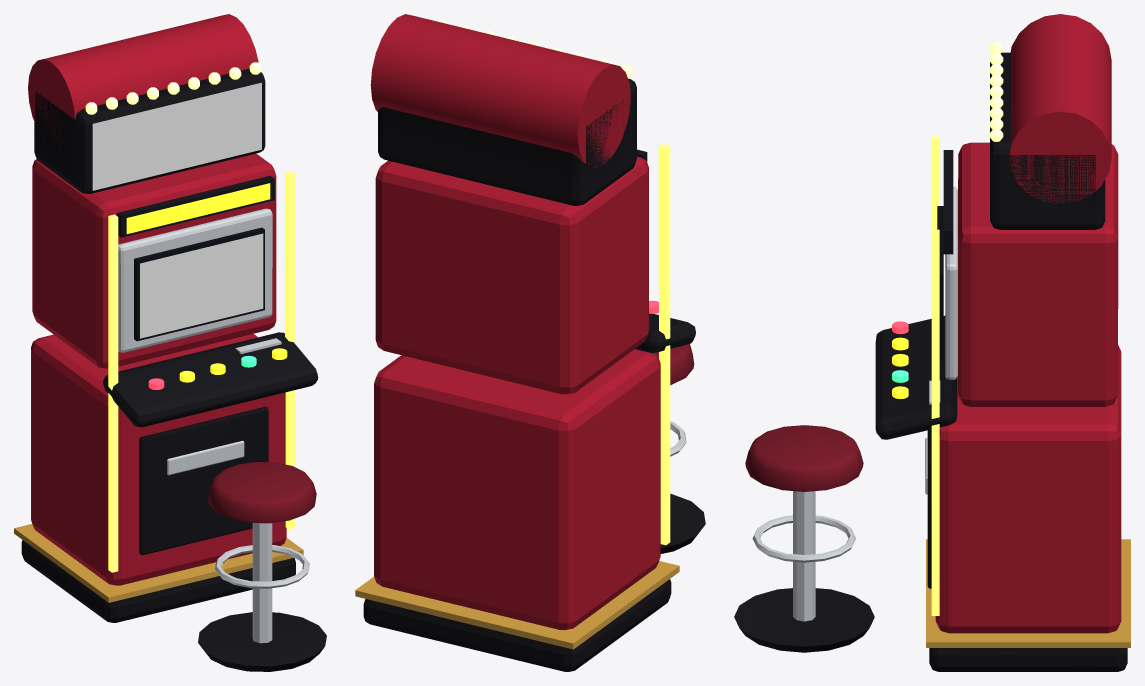
File: slot-cabinet.glb
3 views of the same model, side by side, from view 1: azimuth 30°, elevation 25°; view 2: azimuth 150°, elevation 25°; view 3: azimuth 270°, elevation 25° (orthographic). The views are drawn at different scales.
Visible parts, largest first — view 1: slot-cabinet_lod0; view 2: slot-cabinet_lod0; view 3: slot-cabinet_lod0.
Boxes of the visible parts, box(x1,y1,x2,y2) form: slot-cabinet_lod0: box(14, 14, 326, 671); slot-cabinet_lod0: box(355, 14, 705, 671); slot-cabinet_lod0: box(734, 14, 1130, 671).
Size of what is drawn, in the model's own units: 0.7599 by 1.94 by 1.24.
